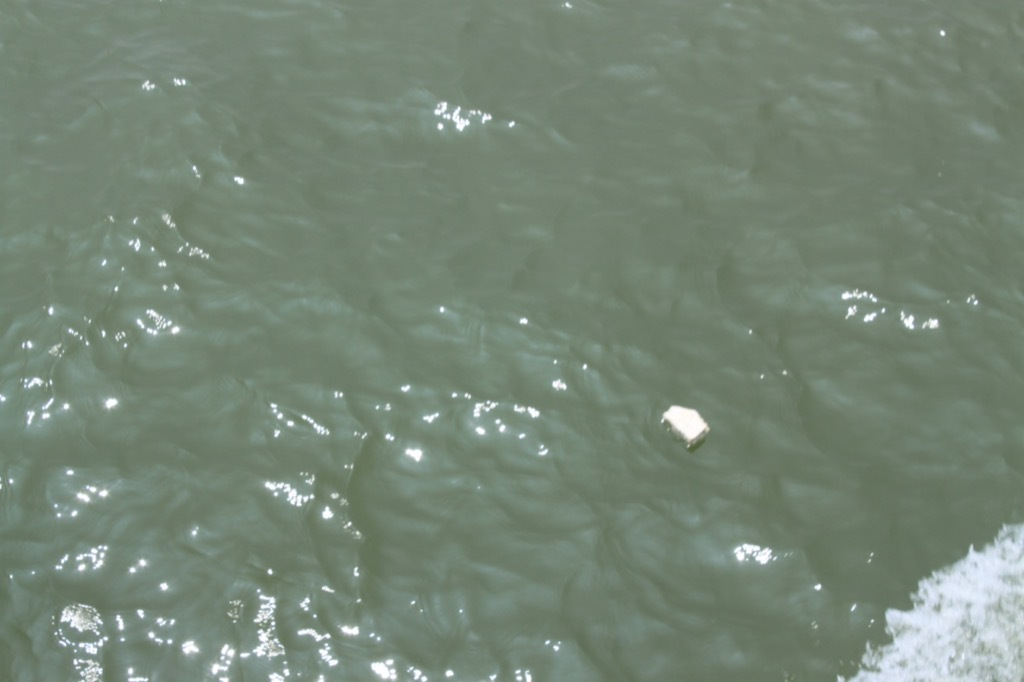plastic: (639, 379, 738, 472)
